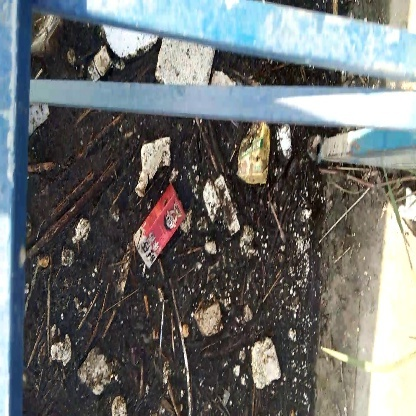milk-box: (125, 181, 186, 268)
